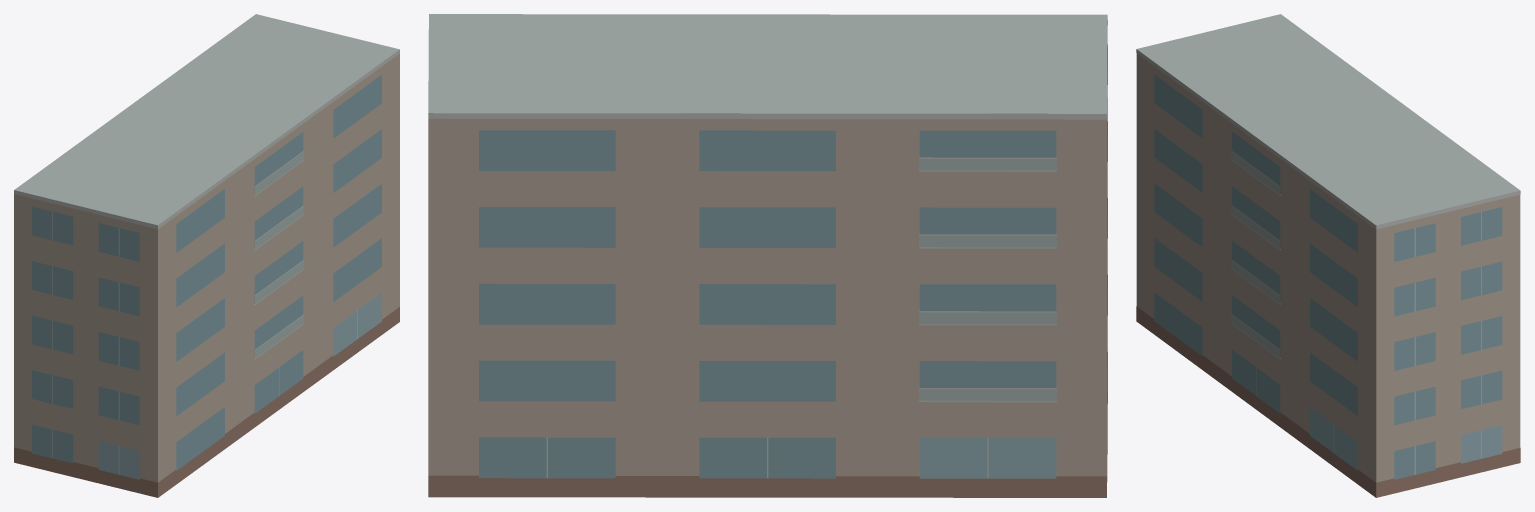
The model's file is survey-upis-32973543.glb.
The picture shows the model from 3 angles, left to right: view 1: azimuth 30°, elevation 25°; view 2: azimuth 150°, elevation 25°; view 3: azimuth 270°, elevation 25°; orthographic projection. The views are drawn at different scales.
Visible parts, largest first — view 1: survey-upis-32973543.tmp; view 2: survey-upis-32973543.tmp; view 3: survey-upis-32973543.tmp.
Part boxes in pixels (x1=…): survey-upis-32973543.tmp: x1=14, y1=14, x2=399, y2=497; survey-upis-32973543.tmp: x1=428, y1=14, x2=1107, y2=497; survey-upis-32973543.tmp: x1=1136, y1=14, x2=1520, y2=497.
Bounding box in the file's own units: 27.48 × 16.5 × 21.09.
